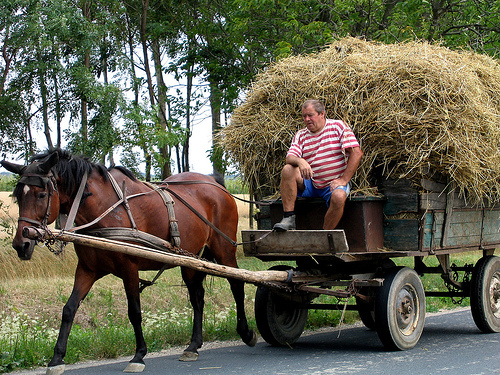horse: (1, 146, 258, 372)
